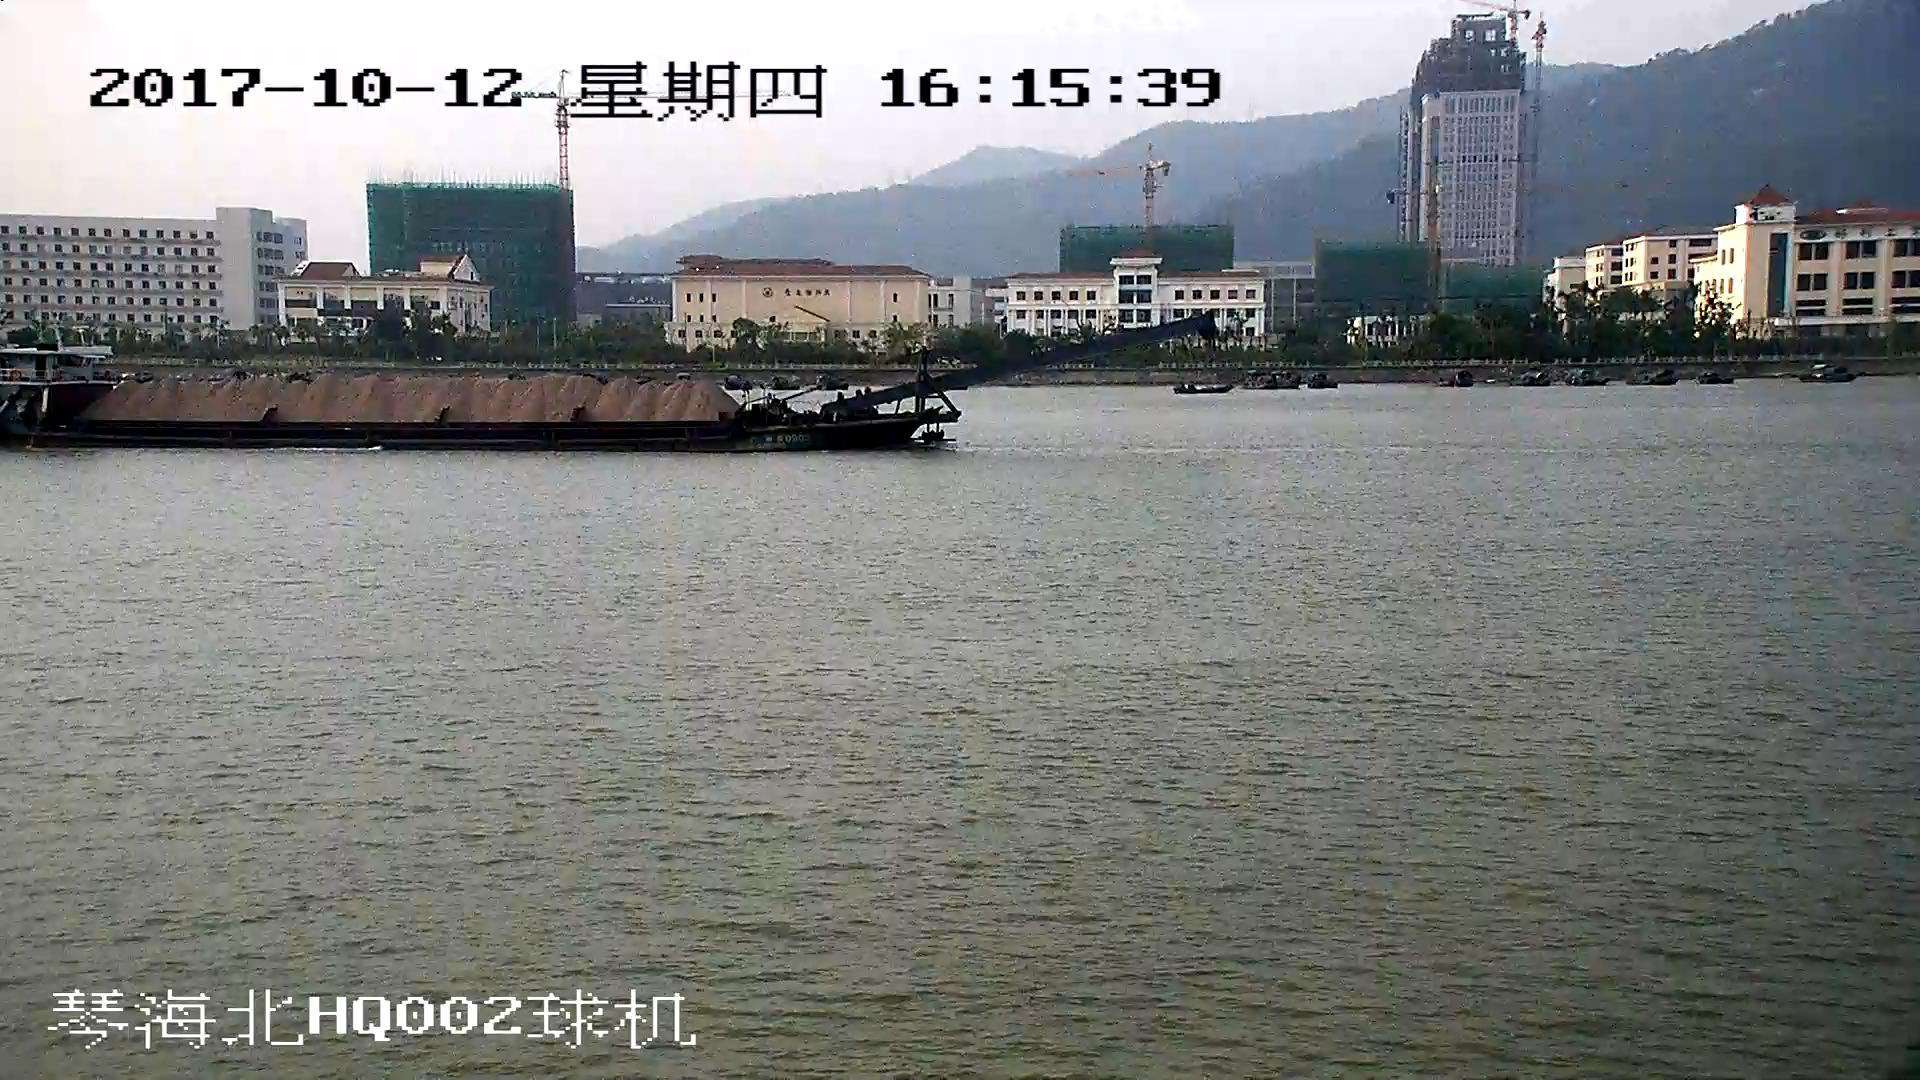ore carrier: (1, 313, 1212, 452)
